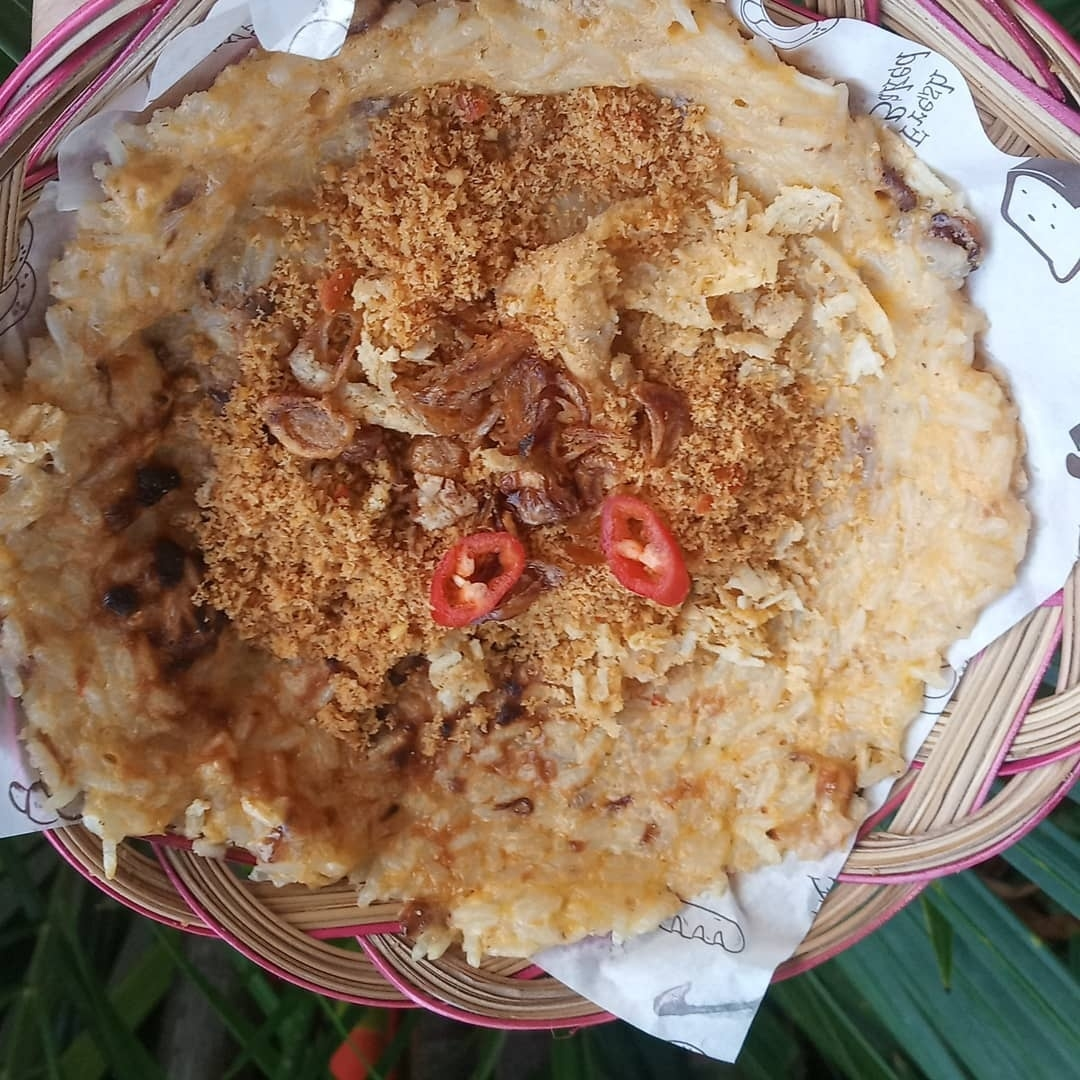kerak_telor: (6, 5, 1033, 962)
